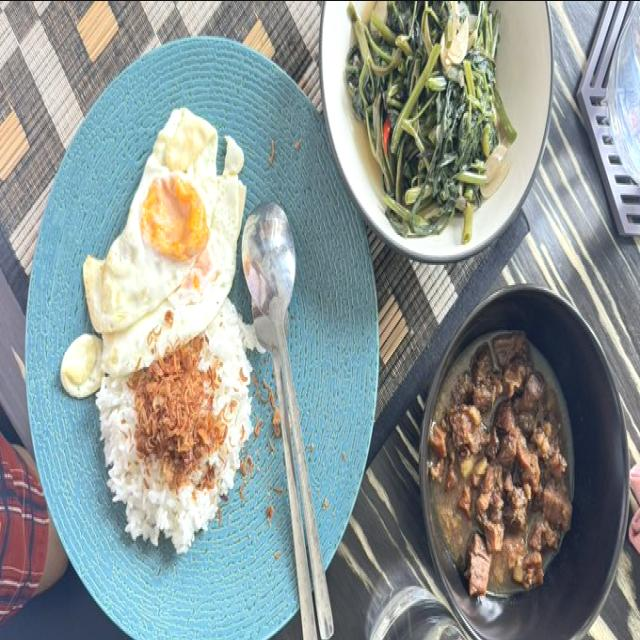telur ceplok: (60, 109, 243, 396)
